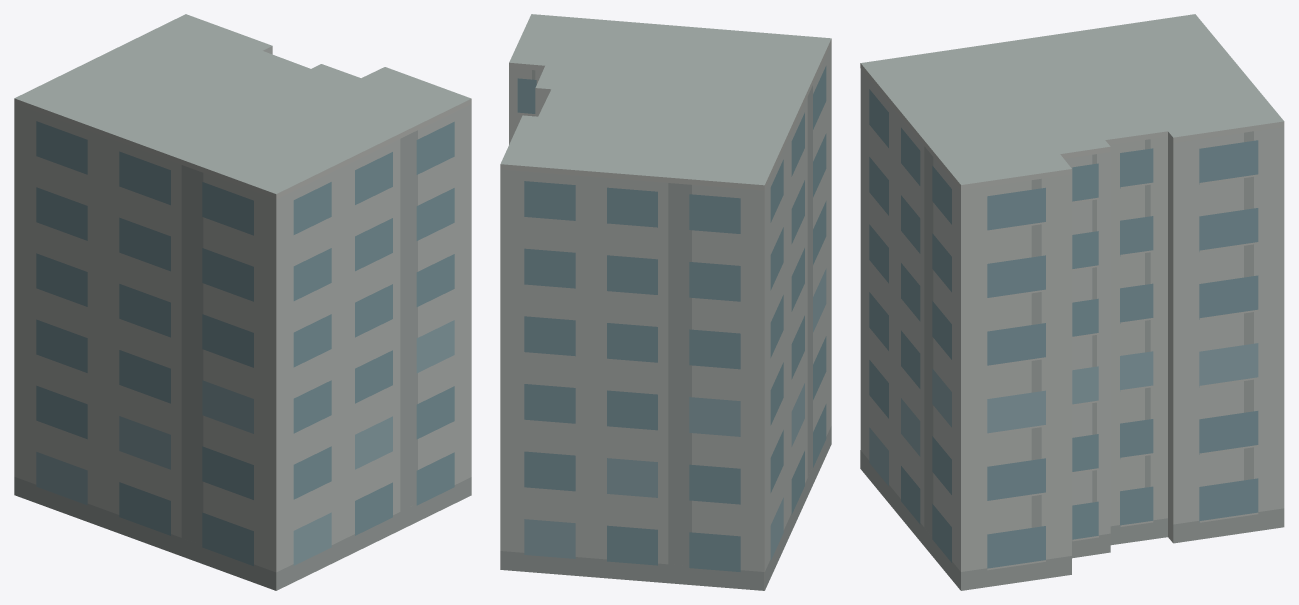
Rendered from survey-upis-32828189.glb.
The picture shows the model from 3 angles, left to right: view 1: azimuth 30°, elevation 25°; view 2: azimuth 150°, elevation 25°; view 3: azimuth 270°, elevation 25°; orthographic projection. The views are drawn at different scales.
Visible parts, largest first — view 1: survey-upis-32828189.tmp; view 2: survey-upis-32828189.tmp; view 3: survey-upis-32828189.tmp.
Boxes of the visible parts, <box> form: survey-upis-32828189.tmp: <box>14,14,471,590</box>; survey-upis-32828189.tmp: <box>500,14,831,590</box>; survey-upis-32828189.tmp: <box>860,14,1284,590</box>.
Size of the model in its own units: 16.6 by 18.35 by 17.38.
